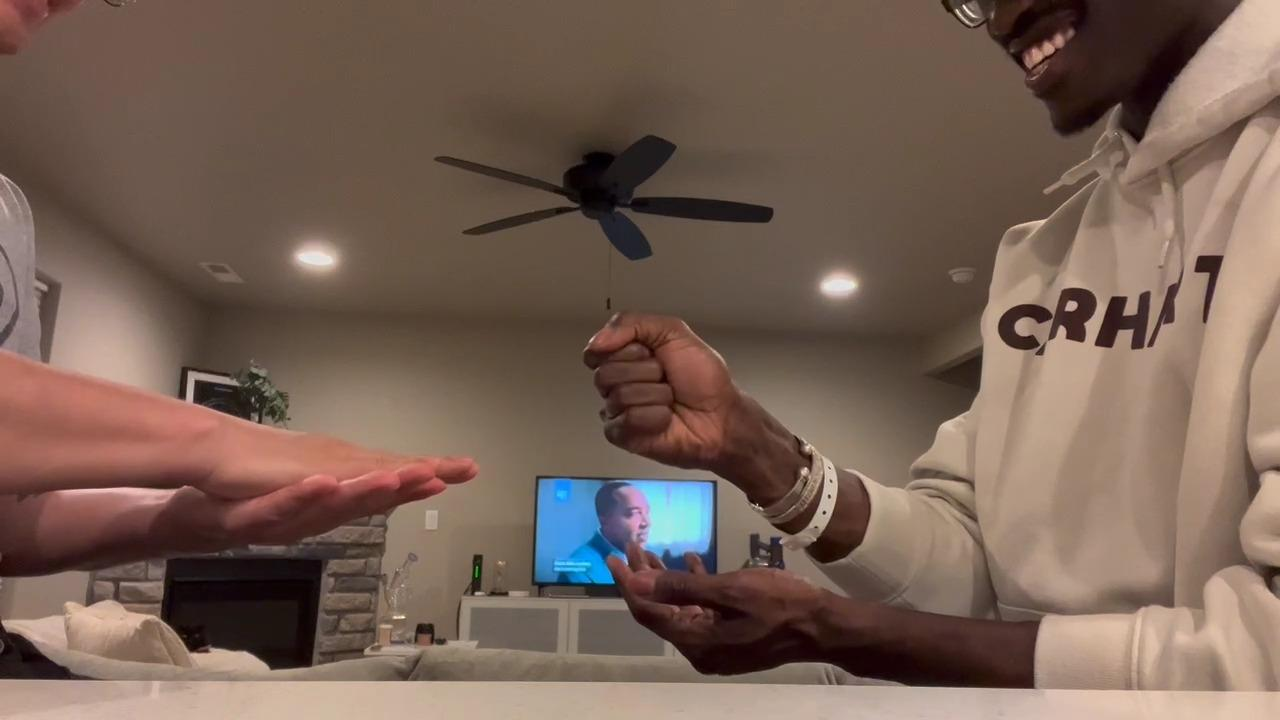Paper: (207, 410, 458, 500)
Rock: (580, 313, 733, 473)
